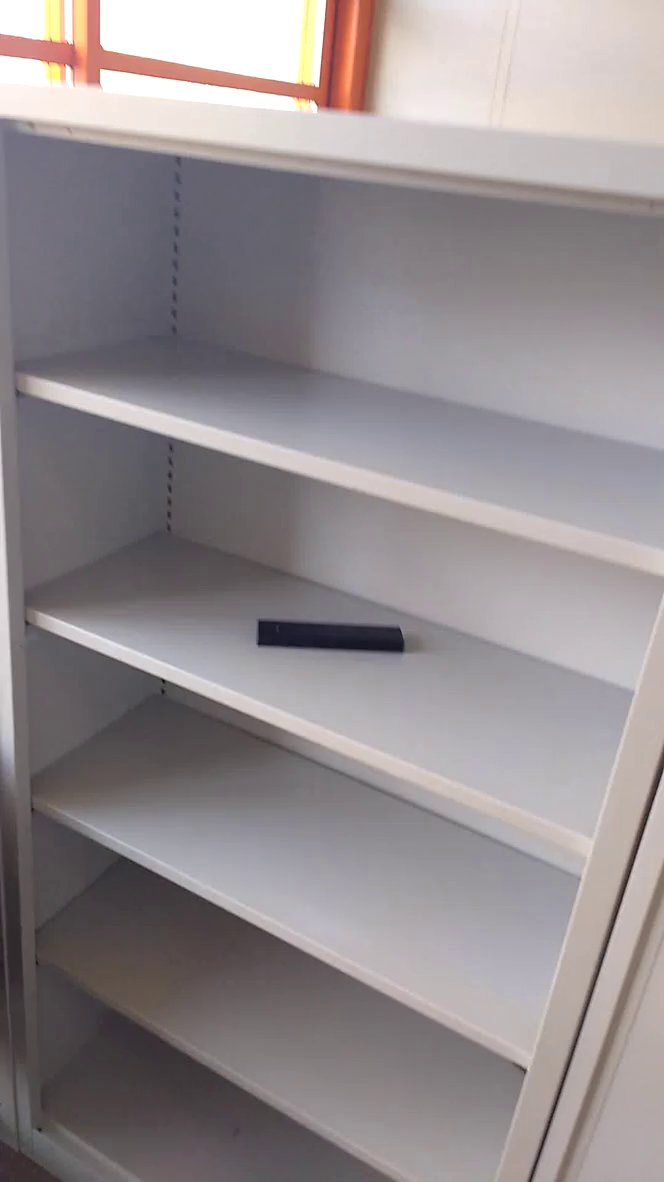remote: (244, 613, 414, 667)
